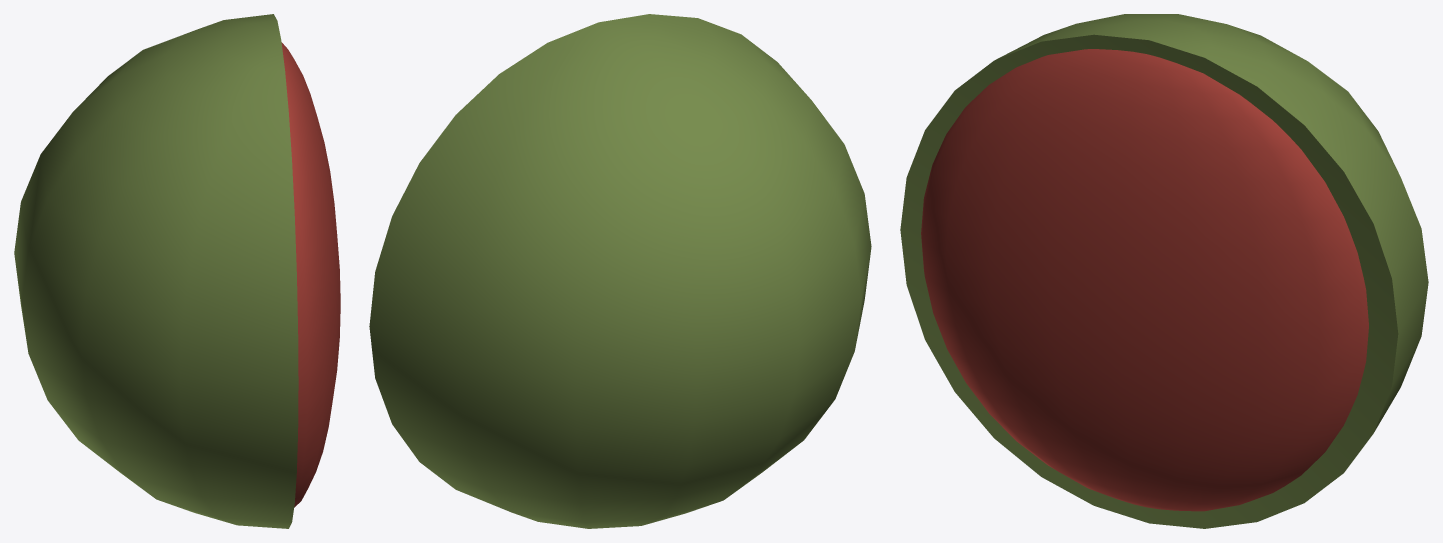
Rendered from watermelon2.fbx.
3 views of the same model, side by side, from view 1: azimuth 30°, elevation 25°; view 2: azimuth 150°, elevation 25°; view 3: azimuth 270°, elevation 25° (orthographic). The views are drawn at different scales.
Visible parts, largest first — view 1: pSphere42, pSphere43; view 2: pSphere42; view 3: pSphere43, pSphere42.
Boxes of the visible parts, x1=… form: pSphere42: x1=14, y1=14, x2=298, y2=528; pSphere43: x1=281, y1=42, x2=340, y2=507; pSphere42: x1=369, y1=14, x2=871, y2=528; pSphere43: x1=921, y1=49, x2=1368, y2=511; pSphere42: x1=900, y1=14, x2=1428, y2=528.
Bounding box in the file's own units: 2.32 × 3.12 × 3.09.
